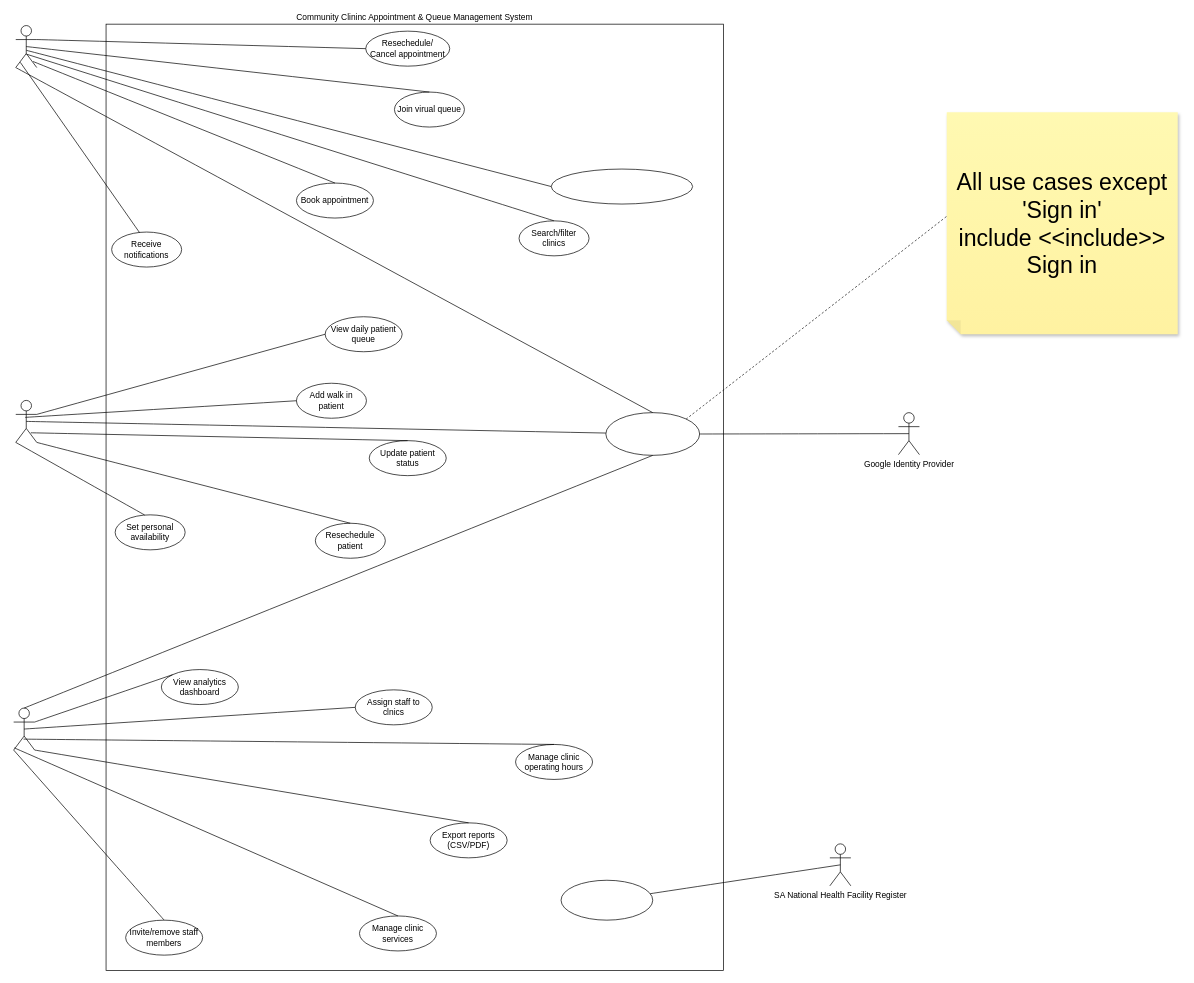
Some shapes in this 1194 by 983 pixel diagram are drawn without their labels. Here are the shapes that lost their labels. From the top down, the centre of each, then its label:
(x=26, y=46): Patient
(x=622, y=186): View queue position &wait time
(x=26, y=421): Staff
(x=652, y=433): Sign in With Google
(x=24, y=728): Admin
(x=606, y=900): Manage Clinic directory(seed from SA health data)
